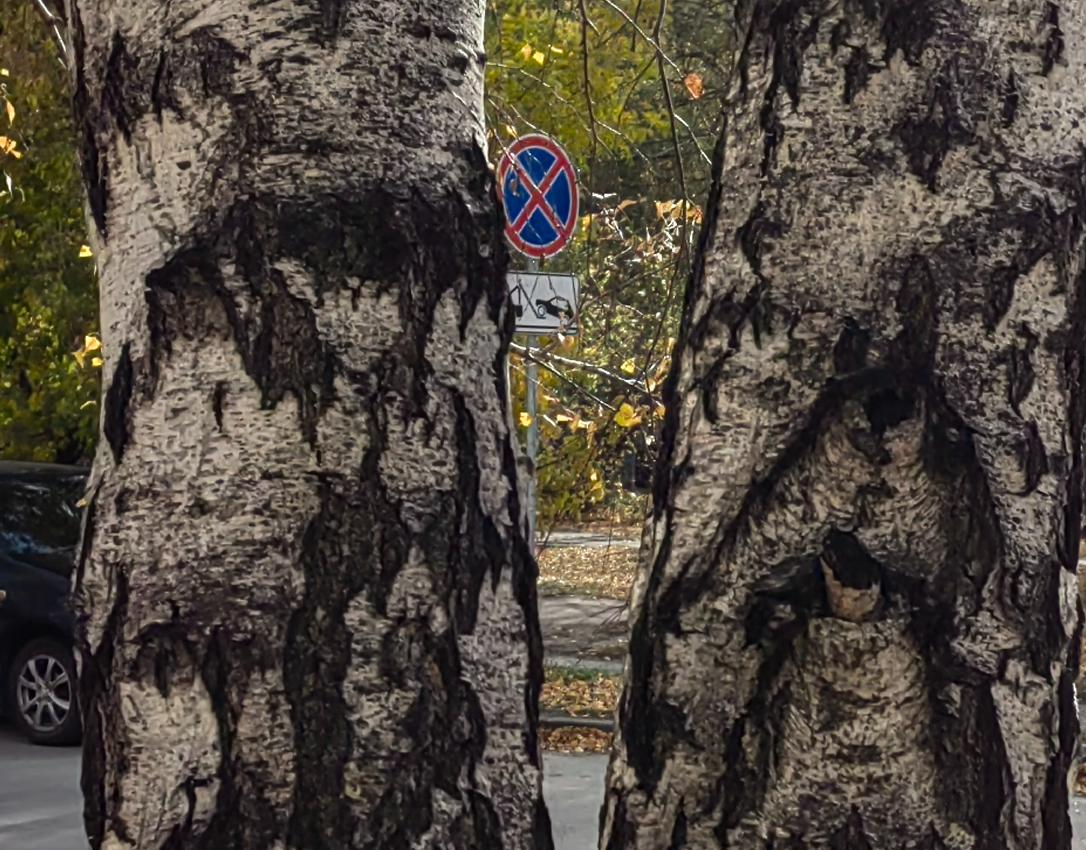obstructed_road_sign: (496, 134, 579, 257), (505, 269, 579, 332)
